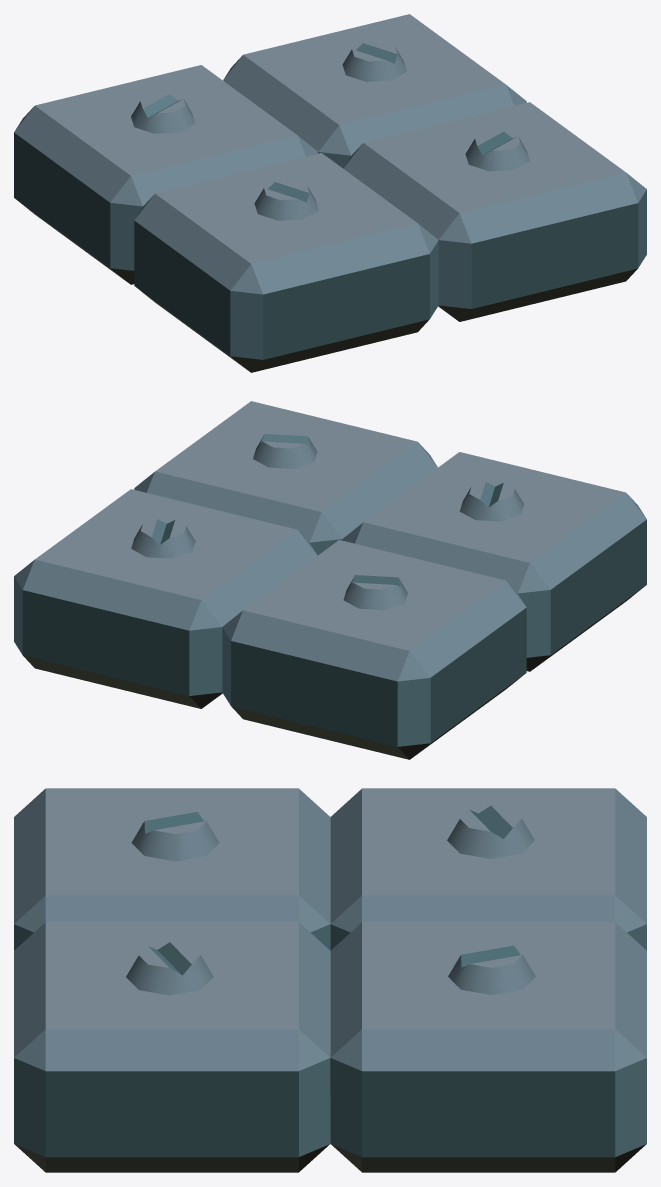
The model's file is m_kub_metal_flatFour.FBX.
The picture shows the model from 3 angles, top to bottom: view 1: azimuth 30°, elevation 25°; view 2: azimuth 150°, elevation 25°; view 3: azimuth 270°, elevation 25°; orthographic projection. The views are drawn at different scales.
Visible parts, largest first — view 1: m_kub_metal_flatFour; view 2: m_kub_metal_flatFour; view 3: m_kub_metal_flatFour.
Part boxes in pixels (<box>): m_kub_metal_flatFour: <box>14,14,646,372</box>; m_kub_metal_flatFour: <box>14,401,646,759</box>; m_kub_metal_flatFour: <box>14,788,646,1172</box>.
Size of the model in its own units: 2 by 0.5761 by 2.
